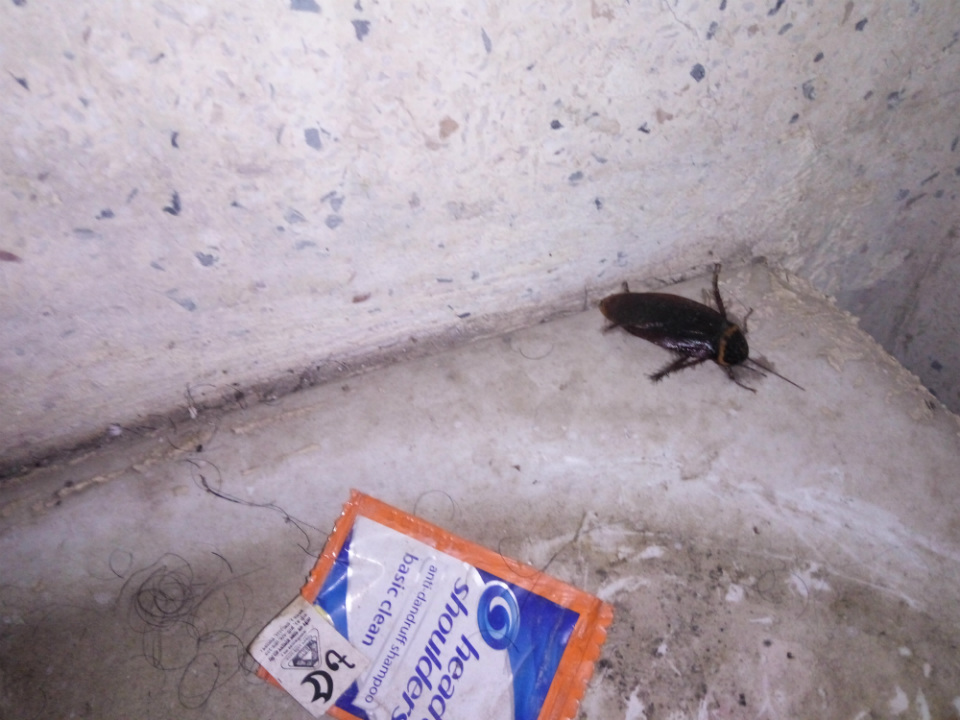cockroach: (521, 234, 836, 409)
